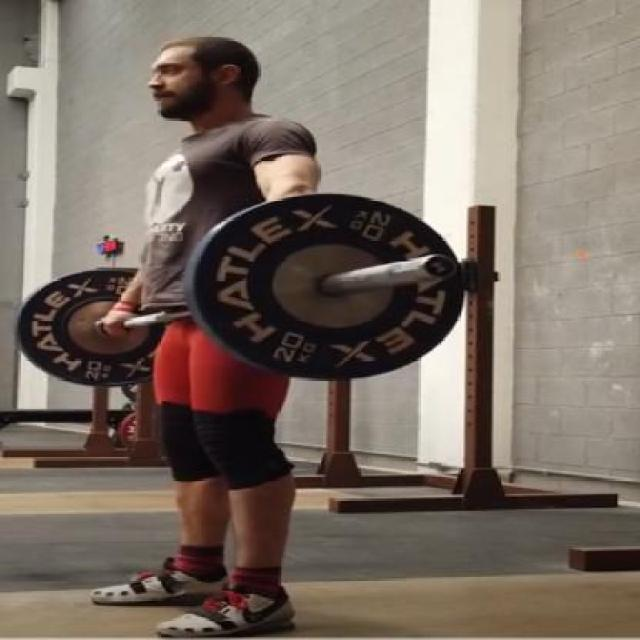barbell: (183, 189, 469, 384)
